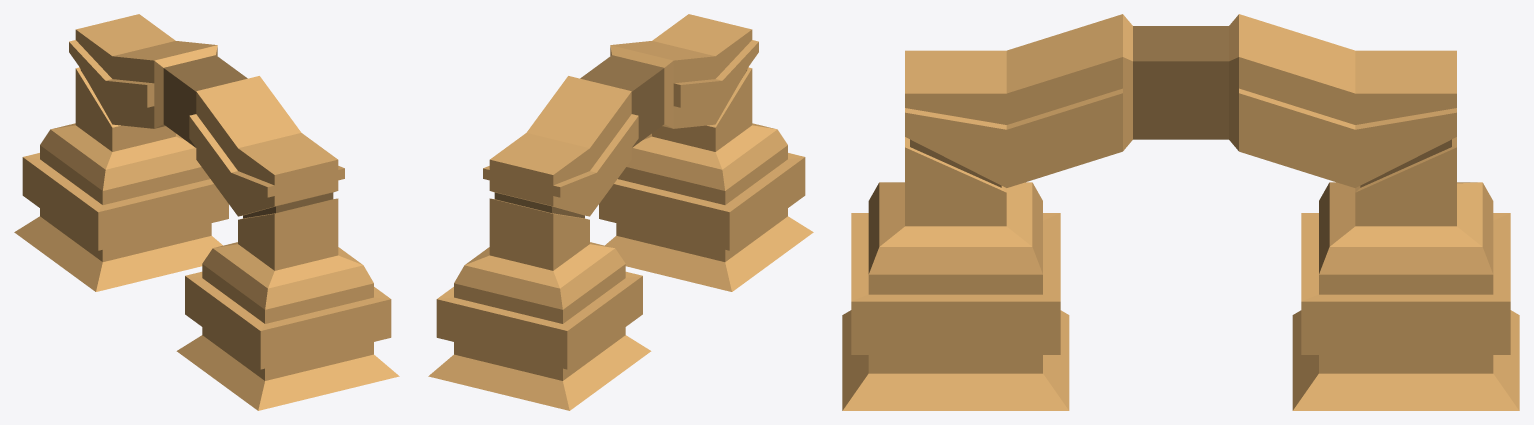
Rendered from Arco001.fbx.
3 views of the same model, side by side, from view 1: azimuth 30°, elevation 25°; view 2: azimuth 150°, elevation 25°; view 3: azimuth 270°, elevation 25° (orthographic). The views are drawn at different scales.
Visible parts, largest first — view 1: Cube.007; view 2: Cube.007; view 3: Cube.007.
Part boxes in pixels (x1,y1,x2,y2): Cube.007: [14, 14, 399, 410]; Cube.007: [428, 14, 813, 410]; Cube.007: [842, 14, 1519, 410].
Size of the model in its own units: 260 by 414 by 776.
